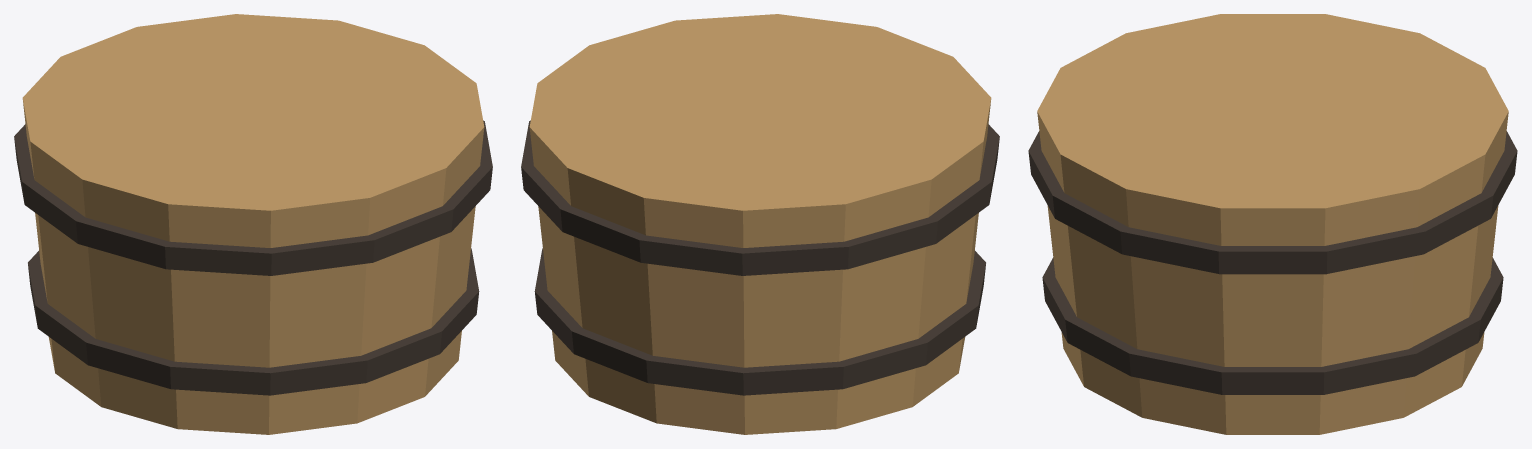
Rendered from p_oke.glb.
3 views of the same model, side by side, from view 1: azimuth 30°, elevation 25°; view 2: azimuth 150°, elevation 25°; view 3: azimuth 270°, elevation 25° (orthographic).
Visible parts, largest first — view 1: oke; view 2: oke; view 3: oke.
Boxes of the visible parts, x1,y1,x2,y2 form: oke: (14, 14, 492, 434); oke: (521, 14, 999, 434); oke: (1028, 14, 1517, 434).
Size of the model in its own units: 0.546 by 0.3 by 0.56.
